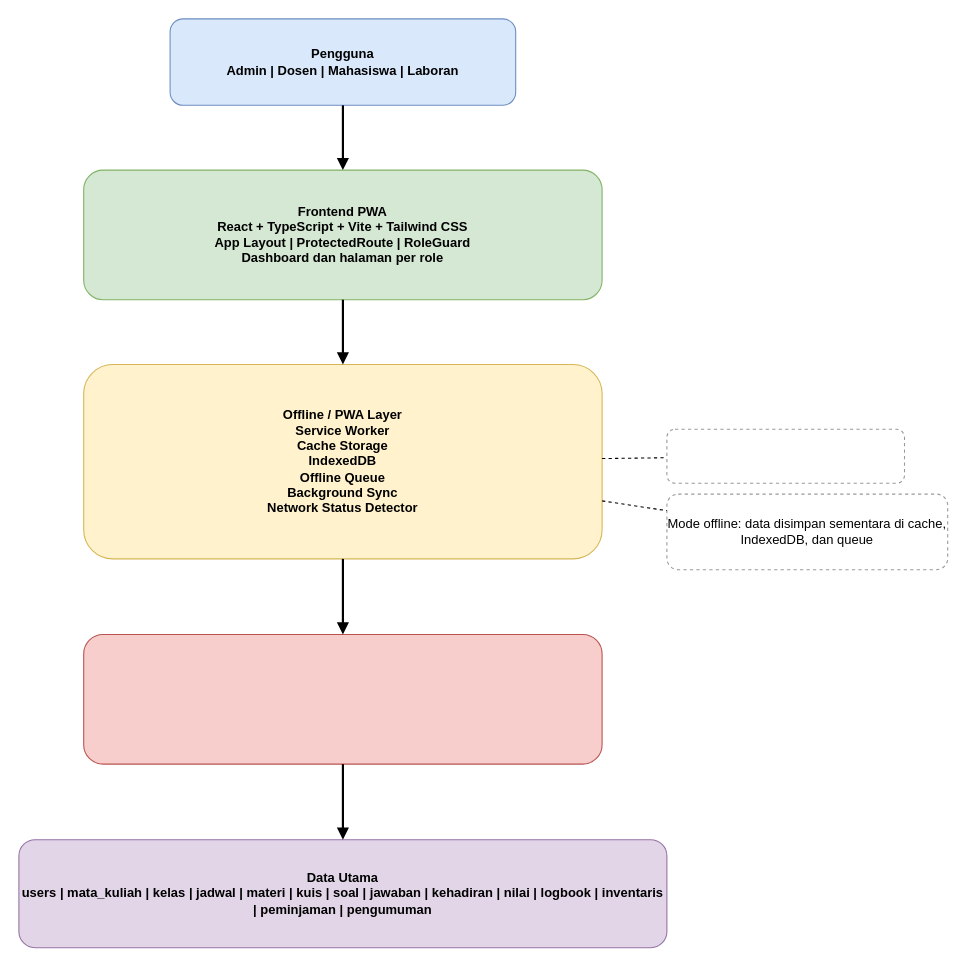
The diagram is 967 pixels wide and 967 high, and some of its shapes have lost their labels. The box of each missing label's shape, as (x1, y1, x2, y2) in pixels:
Backend Service Supabase Auth Supabase Database (PostgreSQL) Supabase Storage: (83, 633, 602, 764)
Mode online: data dikirim ke backend: (666, 428, 905, 483)
